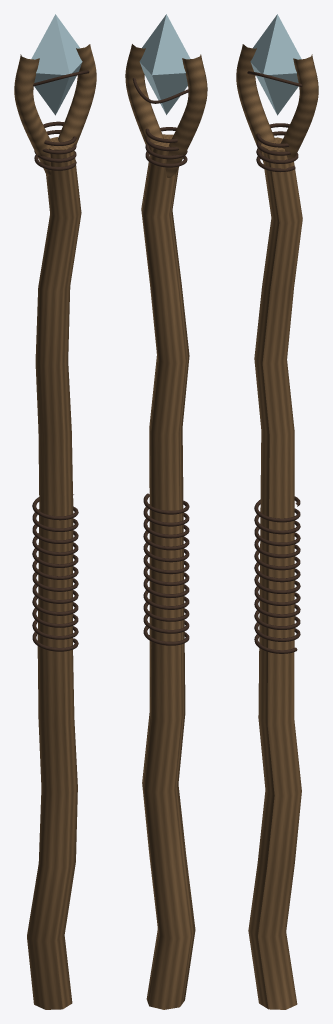
The model's file is corealm_staff_1.glb.
3 renders of one model, left to right at view 1: azimuth 30°, elevation 25°; view 2: azimuth 150°, elevation 25°; view 3: azimuth 330°, elevation 25°, orthographic.
Visible parts, largest first — view 1: corealm-weapon-wood, corealm-weapon-leather, corealm-weapon-gem; view 2: corealm-weapon-wood, corealm-weapon-leather, corealm-weapon-gem; view 3: corealm-weapon-wood, corealm-weapon-leather, corealm-weapon-gem.
Part boxes in pixels (x1,y1,x2,y2): corealm-weapon-wood: (14, 44, 96, 1009); corealm-weapon-leather: (32, 70, 89, 651); corealm-weapon-gem: (31, 14, 82, 115); corealm-weapon-wood: (125, 44, 207, 1009); corealm-weapon-leather: (132, 77, 189, 645); corealm-weapon-gem: (139, 14, 190, 114); corealm-weapon-wood: (236, 44, 318, 1009); corealm-weapon-leather: (247, 71, 302, 653); corealm-weapon-gem: (250, 14, 301, 115).
Bounding box in the file's own units: 0.1407 × 1.66 × 0.0929.
3 materials, 2 textured.
